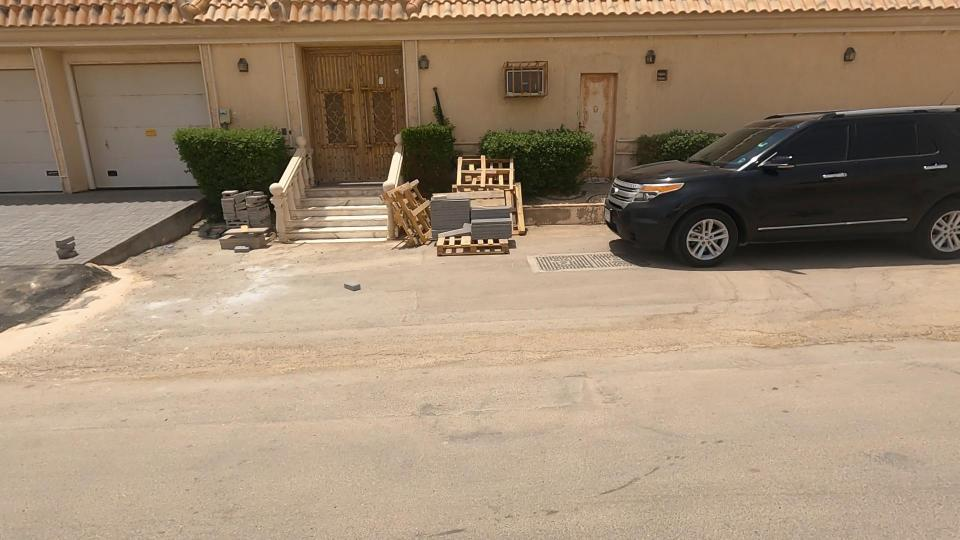GARBAGE: (332, 86, 592, 316), (171, 153, 326, 305)
